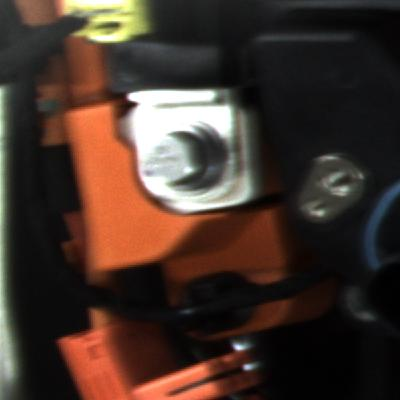nut_b: (138, 123, 228, 195)
